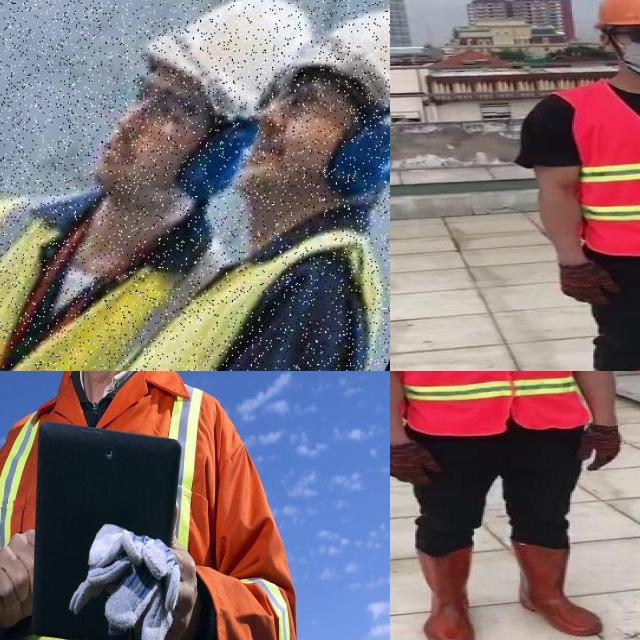Ear-protection: (166, 117, 263, 198), (347, 111, 390, 196)
boots: (513, 542, 602, 635), (413, 545, 479, 640)
head_helmet: (159, 0, 313, 102), (293, 12, 390, 100), (594, 0, 640, 28)
person: (390, 371, 640, 640), (518, 0, 640, 371)
vest: (0, 193, 355, 371), (568, 81, 640, 254), (390, 371, 584, 434)
